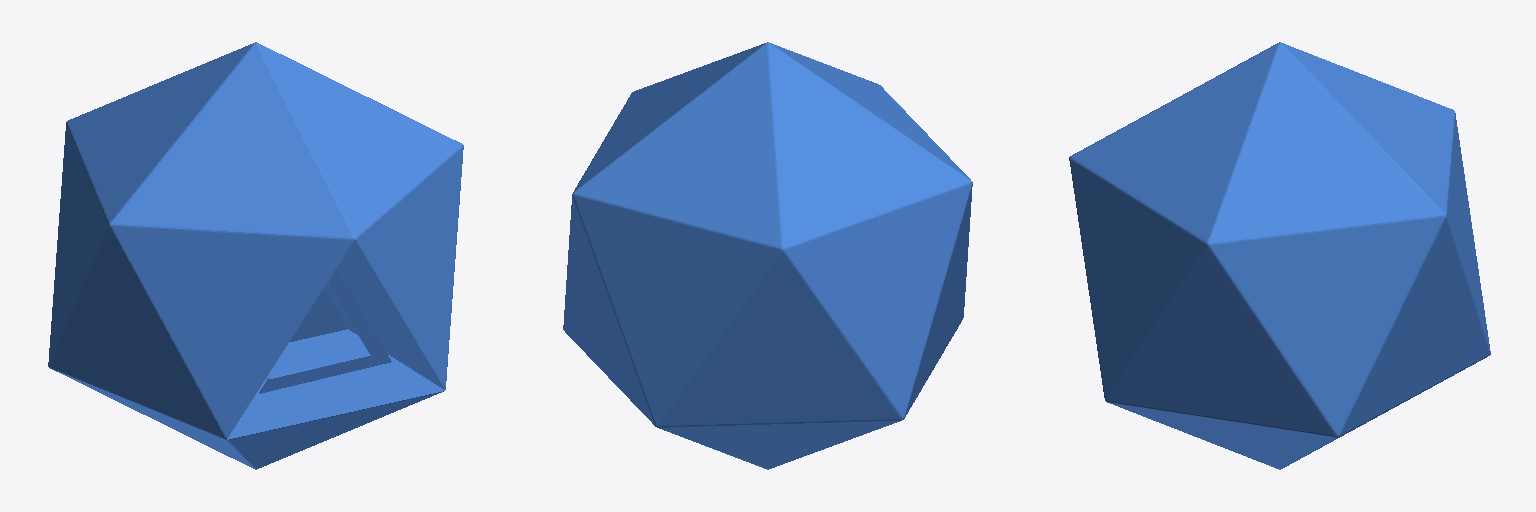
The picture shows the model from 3 angles: view 1: azimuth 30°, elevation 25°; view 2: azimuth 150°, elevation 25°; view 3: azimuth 270°, elevation 25°; orthographic projection.
Visible parts, largest first — view 1: GeoSphere001; view 2: GeoSphere001; view 3: GeoSphere001.
Part boxes in pixels (x1,y1,x2,y2): GeoSphere001: (48,42,463,469); GeoSphere001: (563,42,972,469); GeoSphere001: (1069,42,1490,469).
Size of the model in its own units: 52.03 by 60.4 by 54.03.